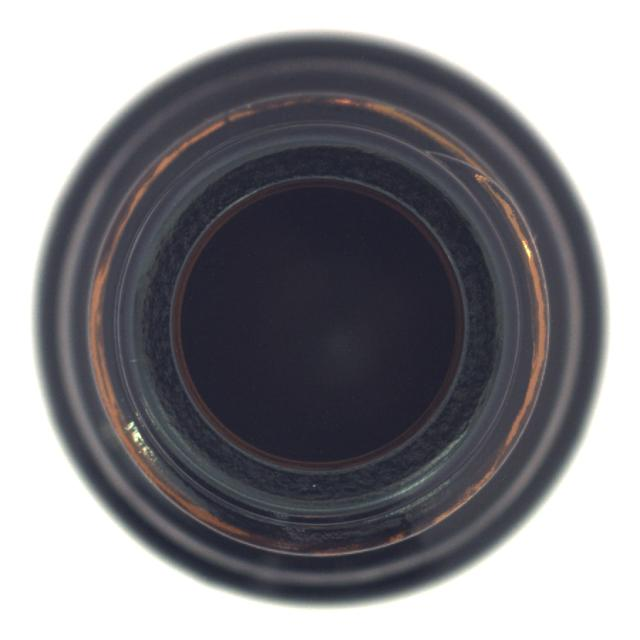bottle-good: (31, 31, 596, 604)
